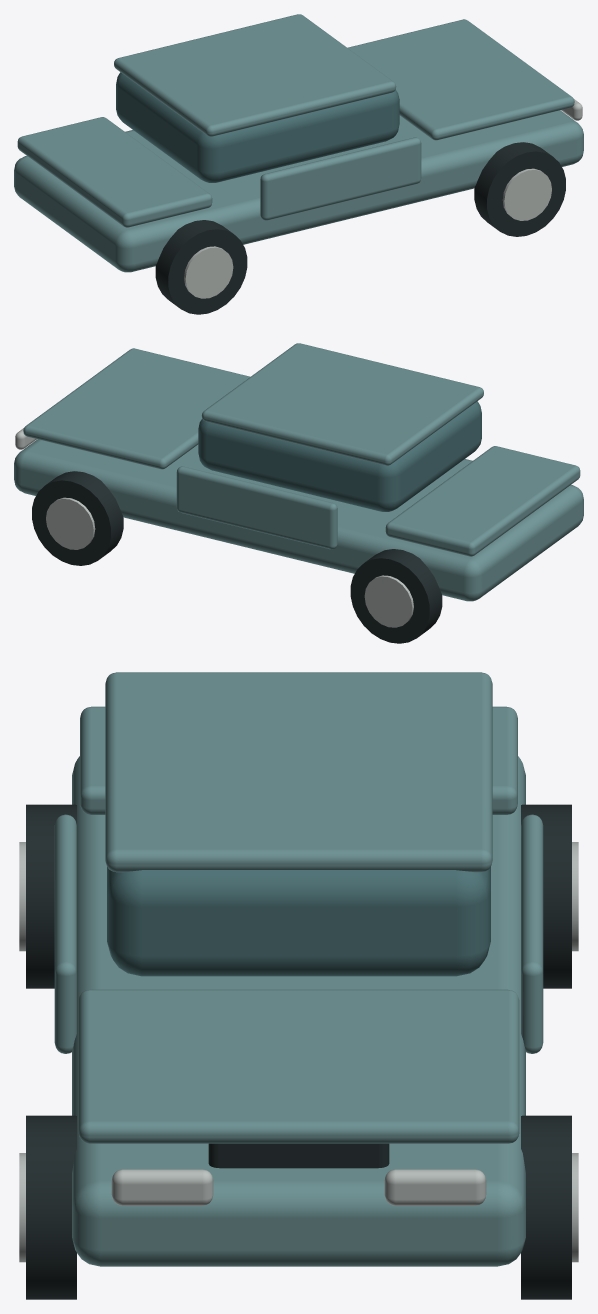
The picture shows the model from 3 angles, top to bottom: view 1: azimuth 30°, elevation 25°; view 2: azimuth 150°, elevation 25°; view 3: azimuth 270°, elevation 25°; orthographic projection. The views are drawn at different scales.
Visible parts, largest first — view 1: e34body_frame, e34body_roof, e34body_hood, e34body_cabin, e34body_trunk, e34body_door-right, wheel_rear-right, wheel_front-right, hub_rear-right, hub_front-right; view 2: e34body_frame, e34body_roof, e34body_hood, e34body_cabin, e34body_trunk, e34body_door-left, wheel_rear-left, wheel_front-left, hub_rear-left, hub_front-left; view 3: e34body_roof, e34body_hood, e34body_frame, e34body_cabin, wheel_front-left, wheel_front-right, wheel_rear-left, wheel_rear-right, e34body_trunk, e34body_door-left, e34body_door-right, e34_radiator (+2 smaller).
Boxes of the visible parts, x1,y1,x2,y2 form: e34body_frame: [14, 110, 583, 272]; e34body_roof: [114, 14, 396, 136]; e34body_hood: [347, 19, 574, 140]; e34body_cabin: [116, 72, 399, 182]; e34body_trunk: [17, 117, 212, 227]; e34body_door-right: [260, 137, 421, 220]; wheel_rear-right: [155, 220, 247, 314]; wheel_front-right: [474, 142, 565, 236]; hub_rear-right: [184, 246, 233, 298]; hub_front-right: [502, 168, 551, 220]; e34body_frame: [14, 439, 583, 601]; e34body_roof: [201, 343, 483, 465]; e34body_hood: [23, 348, 250, 469]; e34body_cabin: [198, 401, 481, 511]; e34body_trunk: [385, 446, 580, 556]; e34body_door-left: [176, 466, 337, 549]; wheel_rear-left: [350, 549, 442, 643]; wheel_front-left: [32, 471, 123, 565]; hub_rear-left: [364, 575, 413, 627]; hub_front-left: [46, 497, 95, 549]; e34body_roof: [105, 672, 492, 872]; e34body_hood: [78, 989, 519, 1143]; e34body_frame: [72, 756, 525, 1266]; e34body_cabin: [107, 867, 490, 976]; wheel_front-left: [521, 1115, 571, 1299]; wheel_front-right: [26, 1115, 76, 1299]; wheel_rear-left: [521, 804, 571, 988]; wheel_rear-right: [26, 804, 76, 988]; e34body_trunk: [80, 706, 517, 814]; e34body_door-left: [521, 814, 543, 1053]; e34body_door-right: [54, 814, 76, 1053]; e34_radiator: [208, 1143, 389, 1168].
Bounding box in the file's own units: 3.44 × 1.15 × 1.76.
